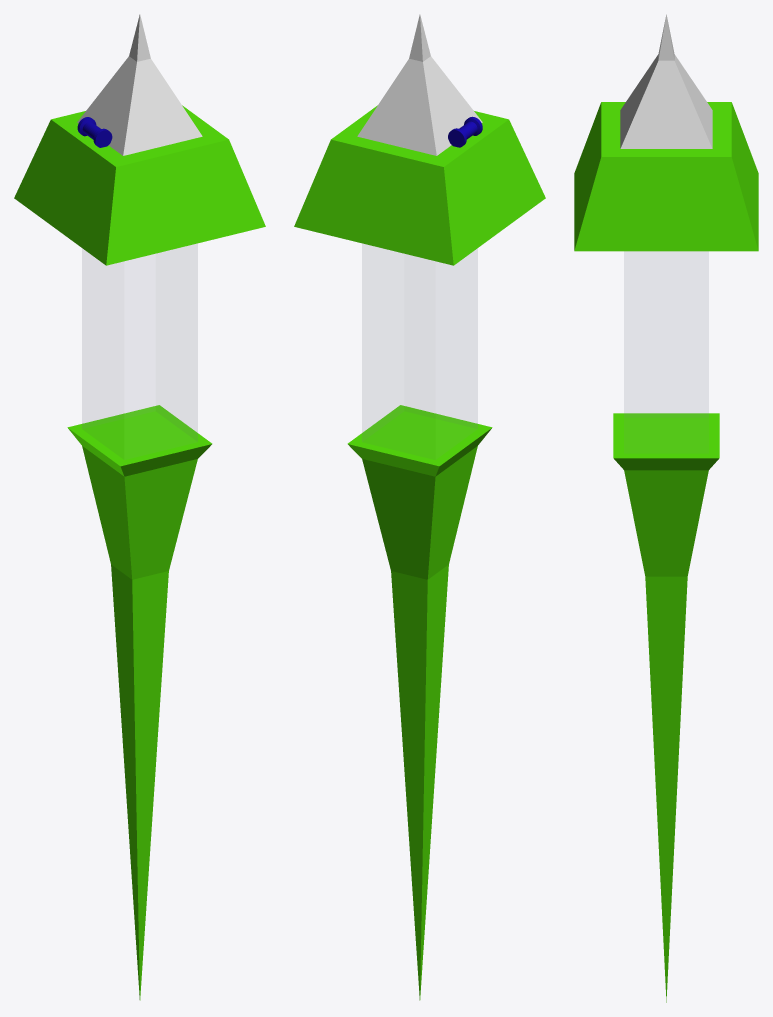
File: Фонарь.fbx
The picture shows the model from 3 angles, left to right: view 1: azimuth 30°, elevation 25°; view 2: azimuth 150°, elevation 25°; view 3: azimuth 270°, elevation 25°; orthographic projection.
Visible parts, largest first — view 1: Стойка, Навес, Лампада, Крышка, Механизм; view 2: Стойка, Навес, Лампада, Крышка, Механизм; view 3: Стойка, Навес, Лампада, Крышка.
Boxes of the visible parts, box(x1,y1,x2,y2) form: Стойка: box(67, 405, 212, 1000); Навес: box(14, 105, 265, 265); Лампада: box(82, 244, 197, 441); Крышка: box(77, 14, 202, 155); Механизм: box(77, 117, 112, 147); Стойка: box(347, 405, 492, 1000); Навес: box(294, 105, 545, 265); Лампада: box(362, 244, 477, 441); Крышка: box(357, 14, 482, 155); Механизм: box(448, 116, 482, 147); Стойка: box(613, 413, 719, 1002); Навес: box(574, 102, 758, 251); Лампада: box(624, 252, 708, 417); Крышка: box(620, 14, 712, 148).
Bounding box in the file's own units: 341 × 2020 × 341.
